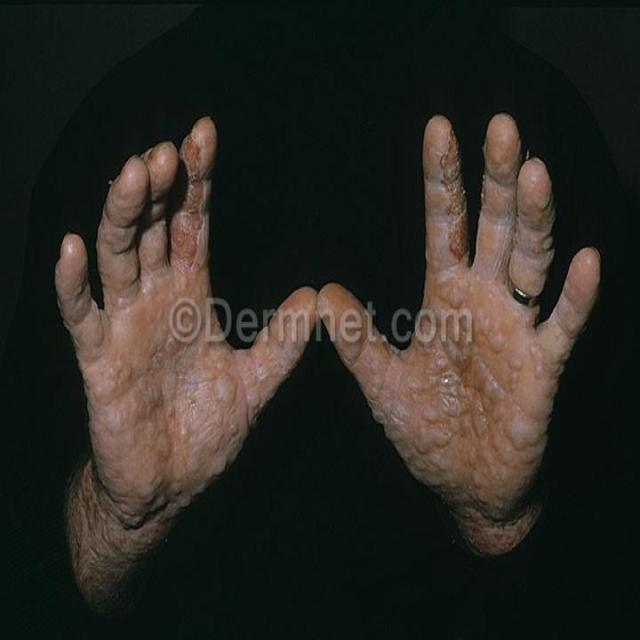Eczema: (343, 140, 559, 520), (103, 140, 232, 498)
